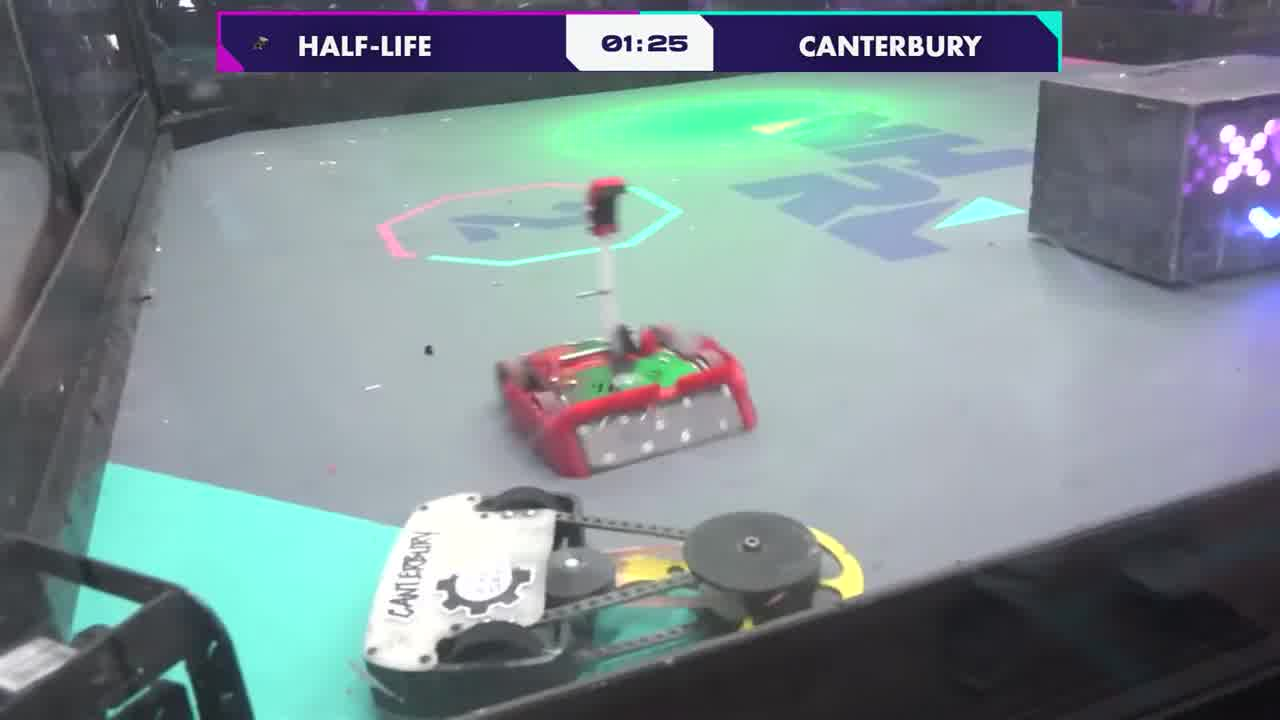combatbot: (364, 488, 864, 713), (493, 176, 760, 476)
housebot: (1026, 50, 1280, 290)
